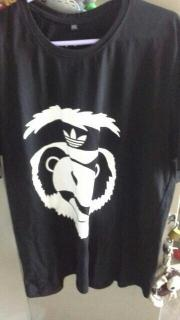short sleeve top: (0, 0, 179, 297)
